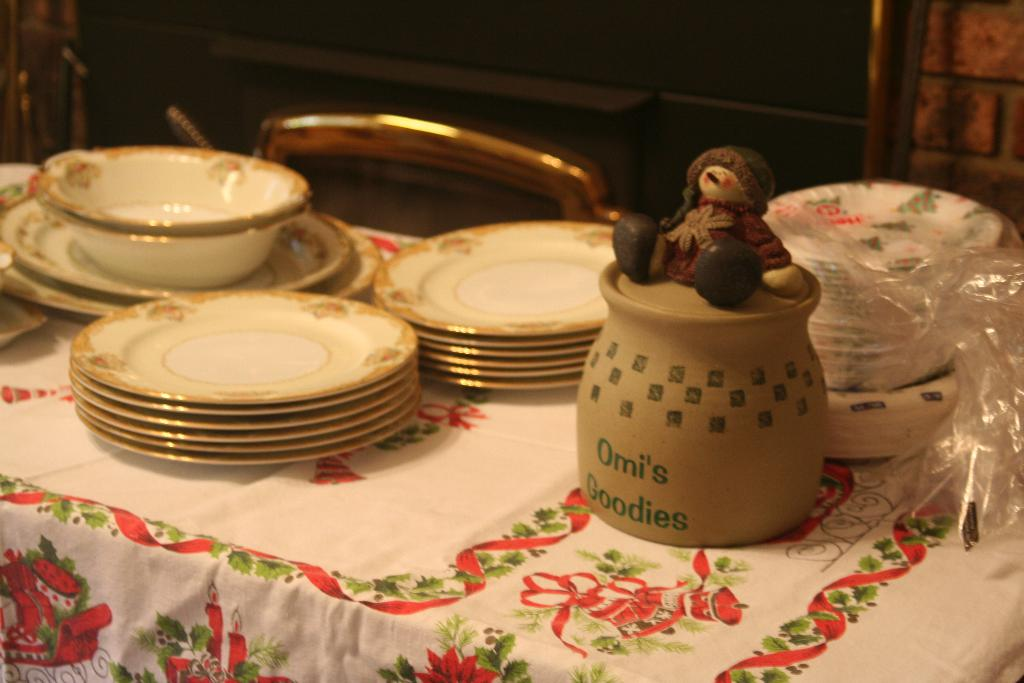plate: (78, 279, 412, 451)
